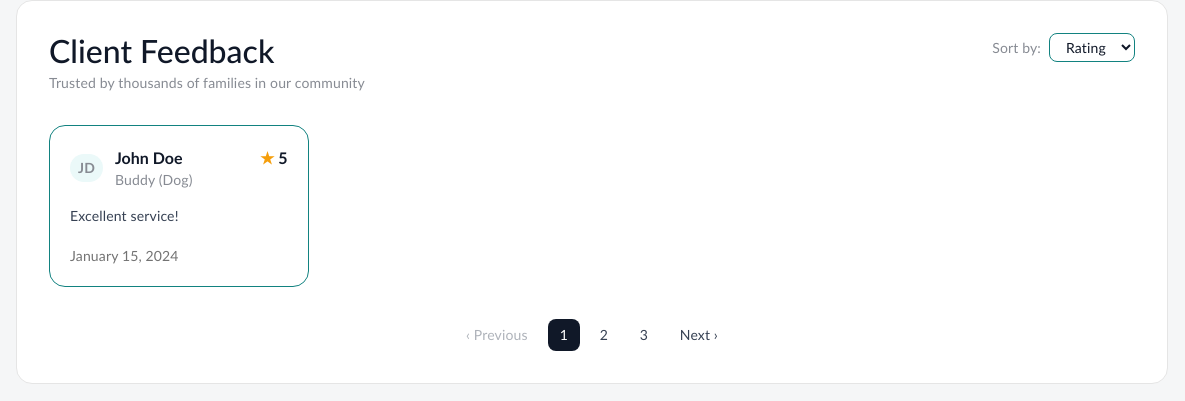
ClientFeedback › disables "Next" button on the last page
Click the button "3" at x=644, y=335, box 628,319 -> 660,351
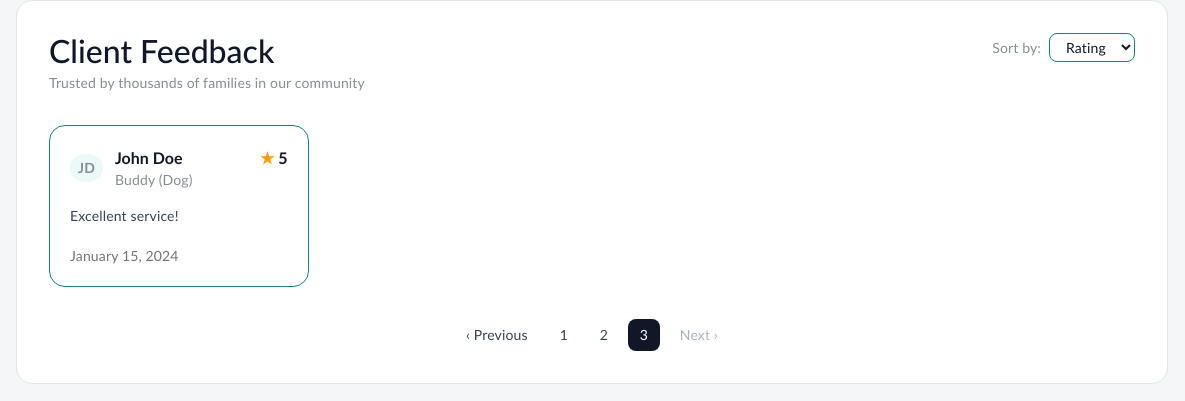
Check: the button "Next ›" is disabled, box 668,321 -> 730,349
